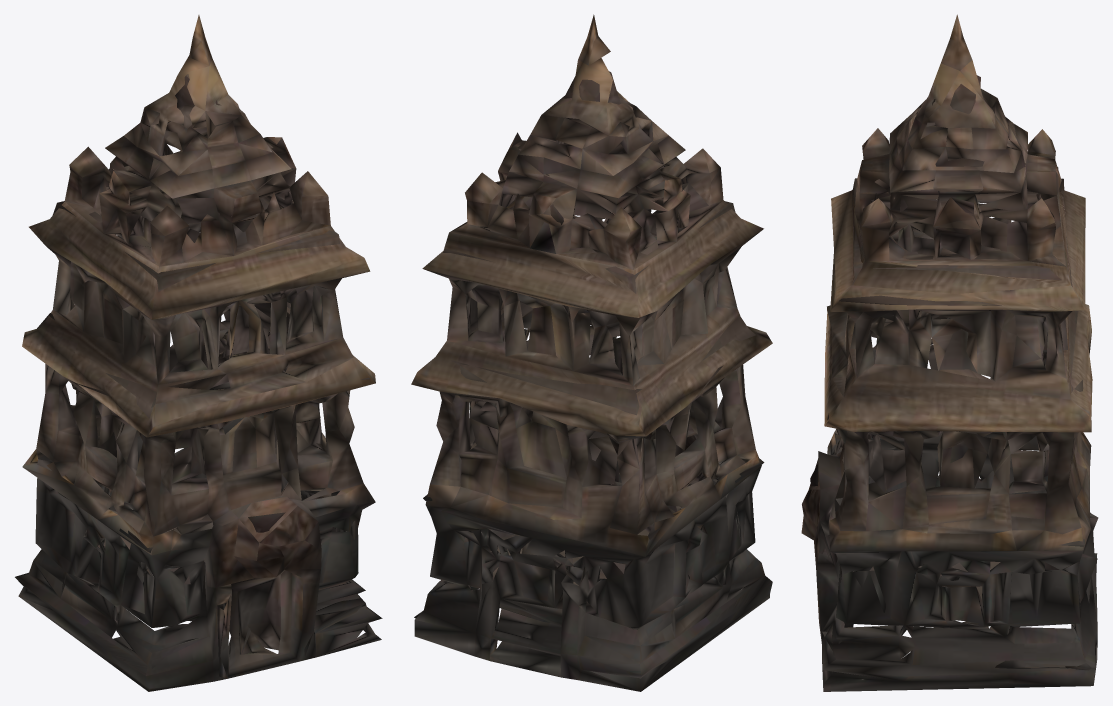
File: tower-house.glb
The picture shows the model from 3 angles, left to right: view 1: azimuth 30°, elevation 25°; view 2: azimuth 150°, elevation 25°; view 3: azimuth 270°, elevation 25°; orthographic projection. The views are drawn at different scales.
Parts seen in each view (by area): view 1: tower-house; view 2: tower-house; view 3: tower-house.
Part boxes in pixels (bbox=[...]): tower-house: bbox=[15, 15, 382, 691]; tower-house: bbox=[411, 14, 772, 691]; tower-house: bbox=[801, 14, 1098, 691].
Size of the model in its own units: 0.2429 by 0.599 by 0.2596.
Materials: 1 (1 with a texture image).
